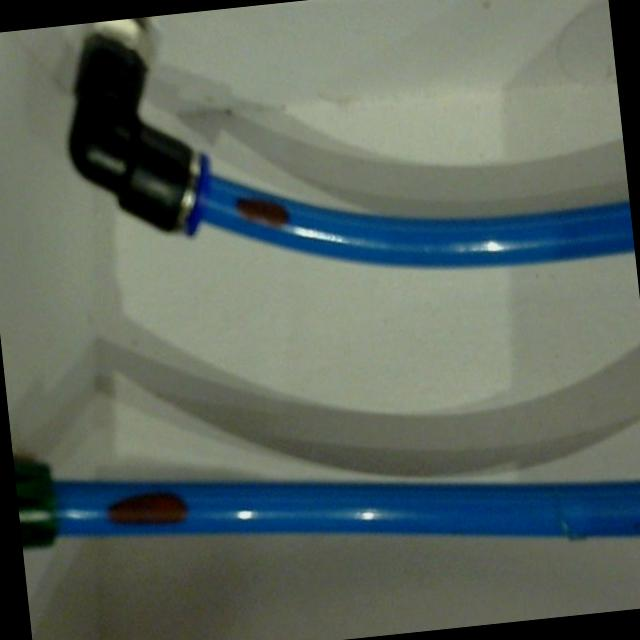hose_damage: (99, 483, 194, 534), (228, 190, 298, 232)
